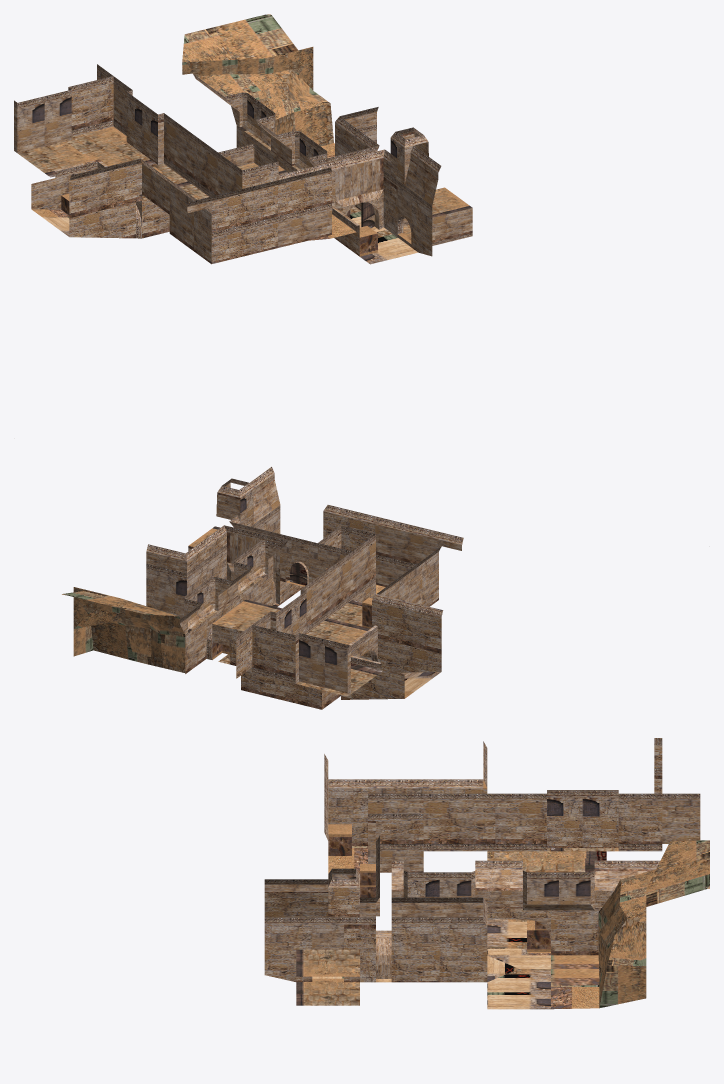
The model's file is DustParts3.fbx.
3 views of the same model, one above another, from view 1: azimuth 30°, elevation 25°; view 2: azimuth 150°, elevation 25°; view 3: azimuth 270°, elevation 25° (orthographic). The views are drawn at different scales.
Visible parts, largest first — view 1: Trigger3; view 2: Trigger3; view 3: Trigger3.
Part boxes in pixels (bbox=[...]): Trigger3: bbox=[14, 14, 472, 264]; Trigger3: bbox=[62, 466, 463, 709]; Trigger3: bbox=[264, 738, 709, 1009].
Bounding box in the file's own units: 82.37 × 12.91 × 70.61.
